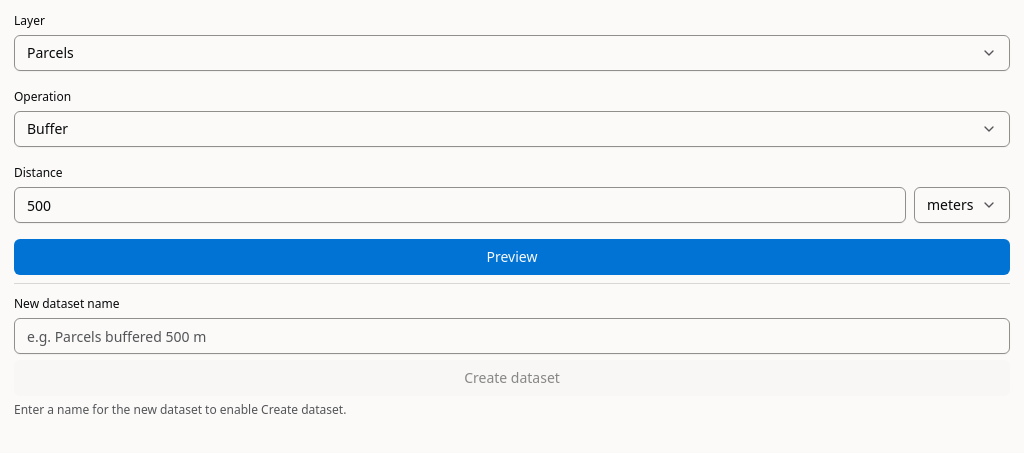
Test case: AnalysisPanel › offers no dissolve group column the server would refuse (#1097 review)
The width and height of the screenshot is (1024, 453).
Click the dropdown labelled "Buffer". click: (48, 128)
box: [14, 111, 1010, 147]
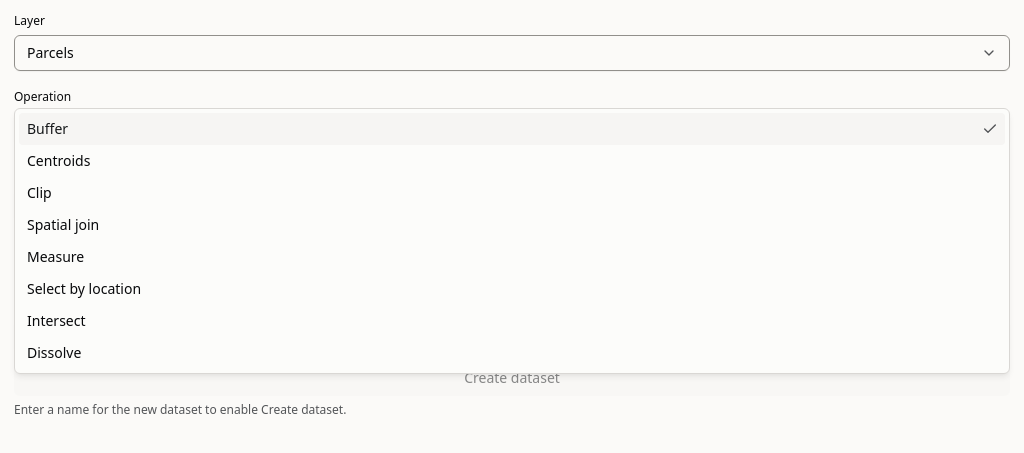
Click the option "Dissolve". click: (54, 352)
box: [27, 343, 81, 362]
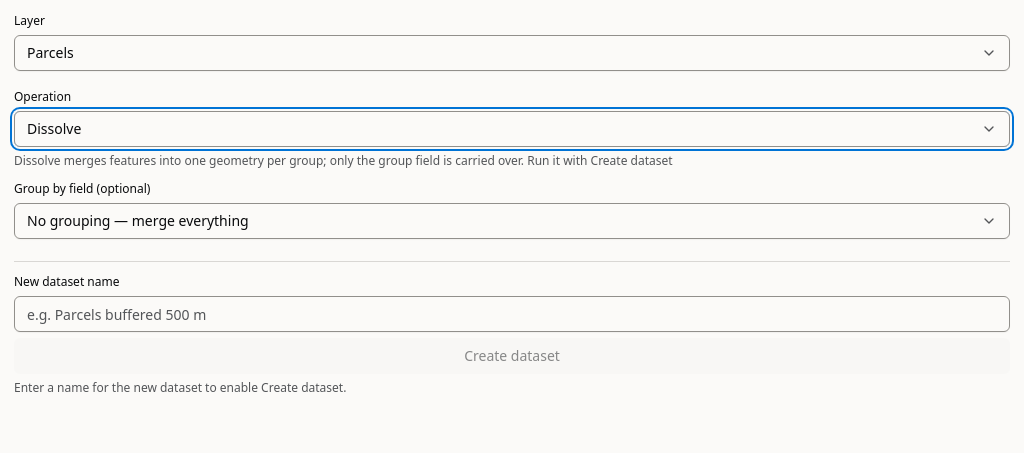
Click the dropdown labelled "No grouping — merge everything". click: (138, 220)
box: [14, 203, 1010, 239]
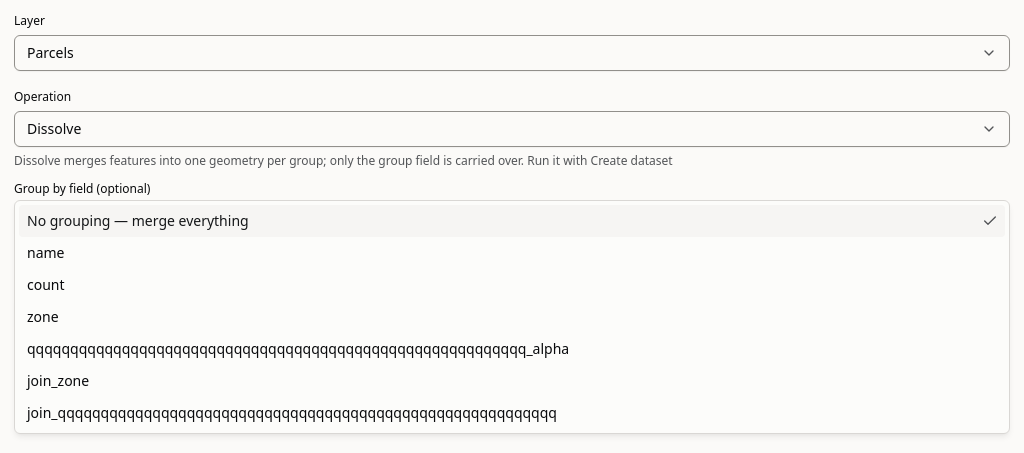
Check: the option "name" is shown, box [27, 243, 64, 262]
